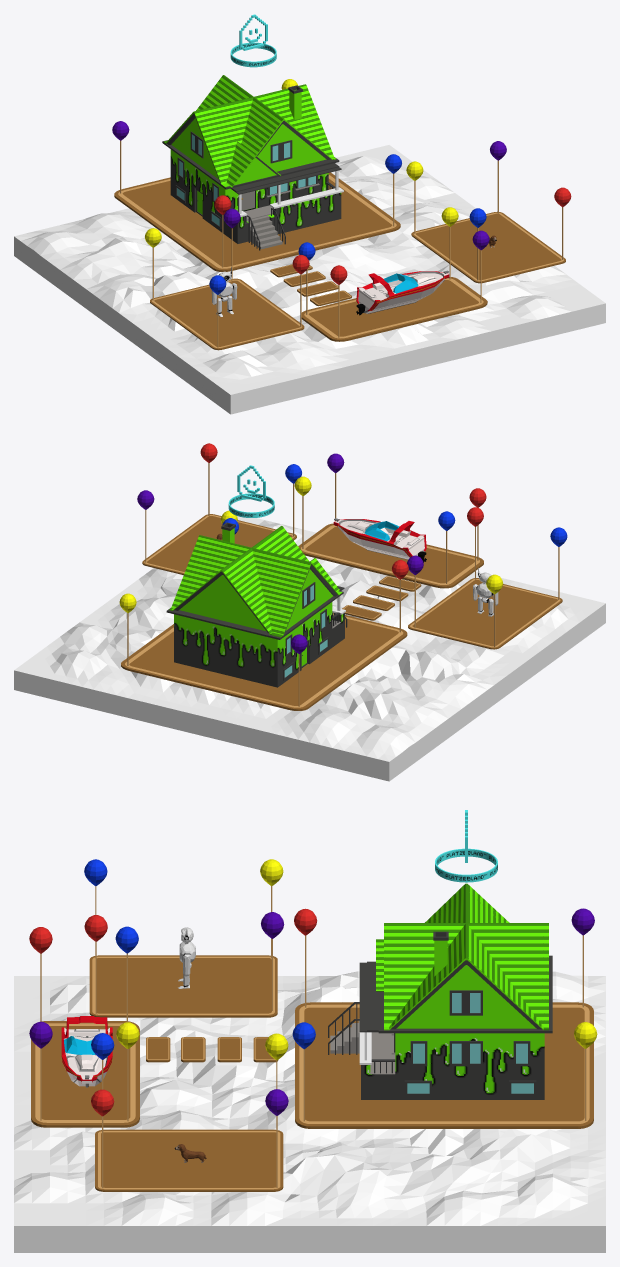
3 renders of one model, top to bottom at view 1: azimuth 30°, elevation 25°; view 2: azimuth 150°, elevation 25°; view 3: azimuth 270°, elevation 25°, orthographic. The views are drawn at different scales.
Parts seen in each view (by area): view 1: Cube.013, Cube.754, VEHICLES_BOAT, TYPE_PREMIUM, OBJRANDOM_PLATZEEBOT; view 2: Cube.013, Cube.754, VEHICLES_BOAT, TYPE_PREMIUM, OBJRANDOM_PLATZEEBOT; view 3: Cube.013, Cube.754, VEHICLES_BOAT, TYPE_PREMIUM, OBJRANDOM_PLATZEEBOT.
Boxes of the visible parts, bbox=[...] form: Cube.013: bbox=[14, 79, 605, 414]; Cube.754: bbox=[162, 75, 343, 250]; VEHICLES_BOAT: bbox=[356, 270, 449, 315]; TYPE_PREMIUM: bbox=[230, 14, 276, 67]; OBJRANDOM_PLATZEEBOT: bbox=[211, 267, 237, 316]; Cube.013: bbox=[14, 443, 605, 781]; Cube.754: bbox=[166, 522, 347, 687]; VEHICLES_BOAT: bbox=[333, 518, 426, 562]; TYPE_PREMIUM: bbox=[228, 465, 274, 517]; OBJRANDOM_PLATZEEBOT: bbox=[473, 568, 498, 616]; Cube.013: bbox=[14, 859, 605, 1252]; Cube.754: bbox=[328, 883, 552, 1099]; VEHICLES_BOAT: bbox=[61, 1016, 112, 1087]; TYPE_PREMIUM: bbox=[435, 810, 497, 882]; OBJRANDOM_PLATZEEBOT: bbox=[178, 927, 195, 988].
Bounding box in the file's own units: 4000 × 2544 × 4000.
Materials: 31 (3 with a texture image).
